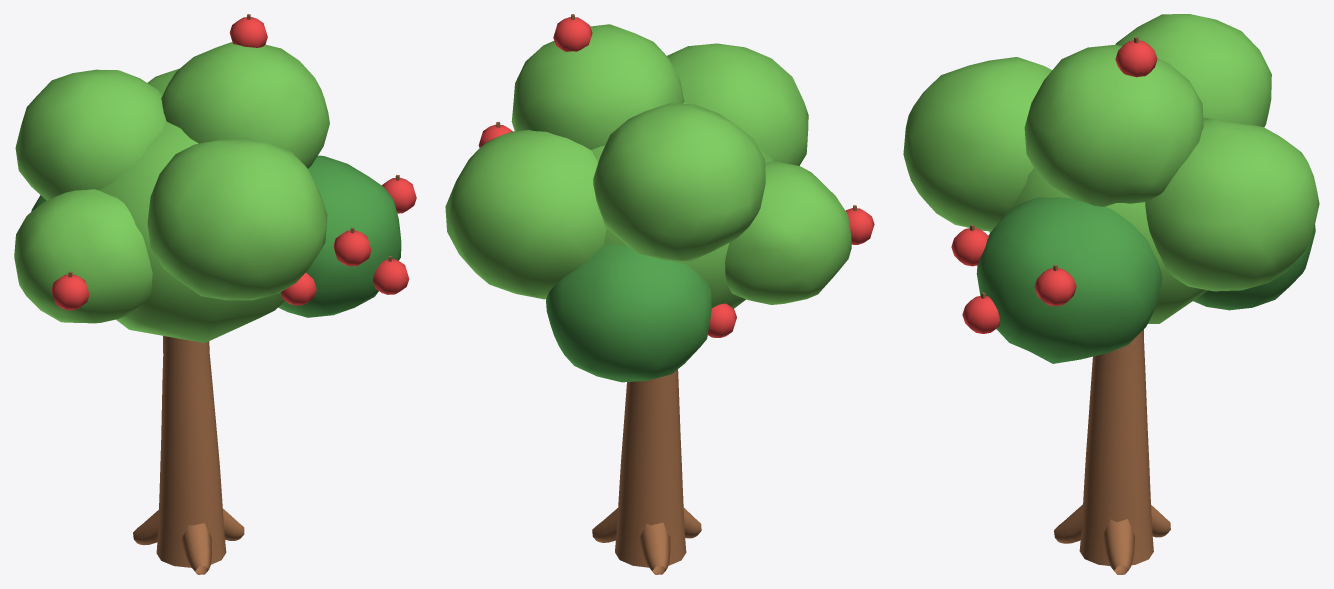
The model's file is prop_tree_fruit.glb.
3 views of the same model, side by side, from view 1: azimuth 30°, elevation 25°; view 2: azimuth 150°, elevation 25°; view 3: azimuth 270°, elevation 25° (orthographic). The views are drawn at different scales.
Parts seen in each view (by area): view 1: prop_tree_fruit; view 2: prop_tree_fruit; view 3: prop_tree_fruit.
Boxes of the visible parts, x1,y1,x2,y2 form: prop_tree_fruit: [14, 14, 416, 574]; prop_tree_fruit: [445, 14, 874, 574]; prop_tree_fruit: [903, 14, 1319, 574].
Size of the model in its own units: 2.71 by 3.59 by 2.47.
